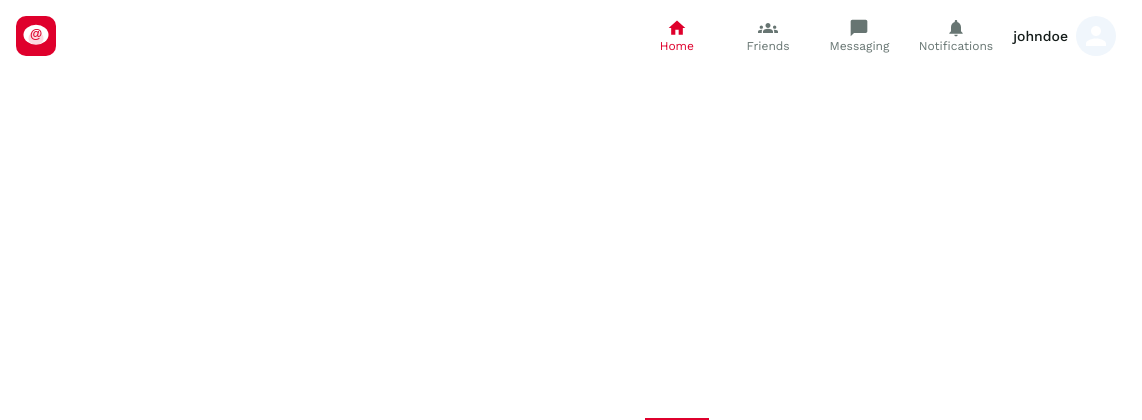
Test: Header › when user is logged in › opens menu when profile is clicked
Click the text "johndoe" at point(1041, 36), box [1013,28,1068,44]
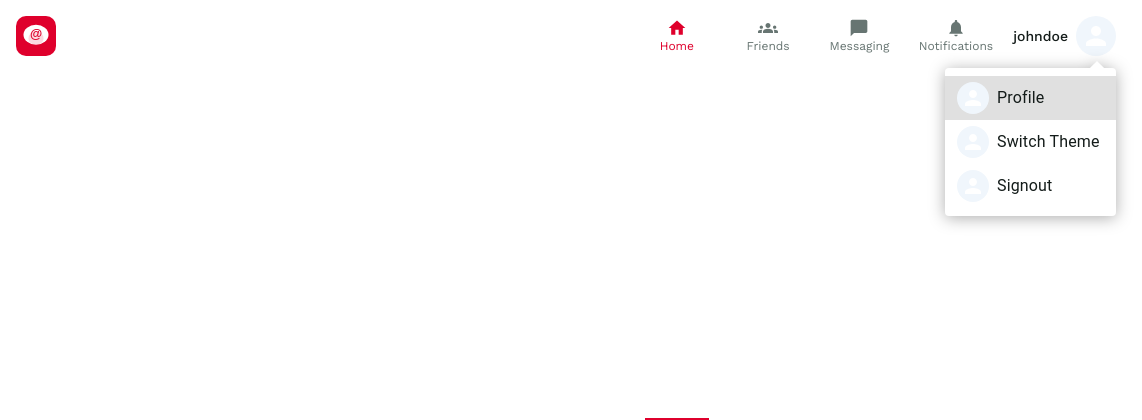
Expected: the menu item "Profile" is shown, [945,76,1116,120]
Expected: the menu item "Switch Theme" is shown, [957,126,1100,158]
Expected: the menu item "Signout" is shown, [957,170,1052,202]
